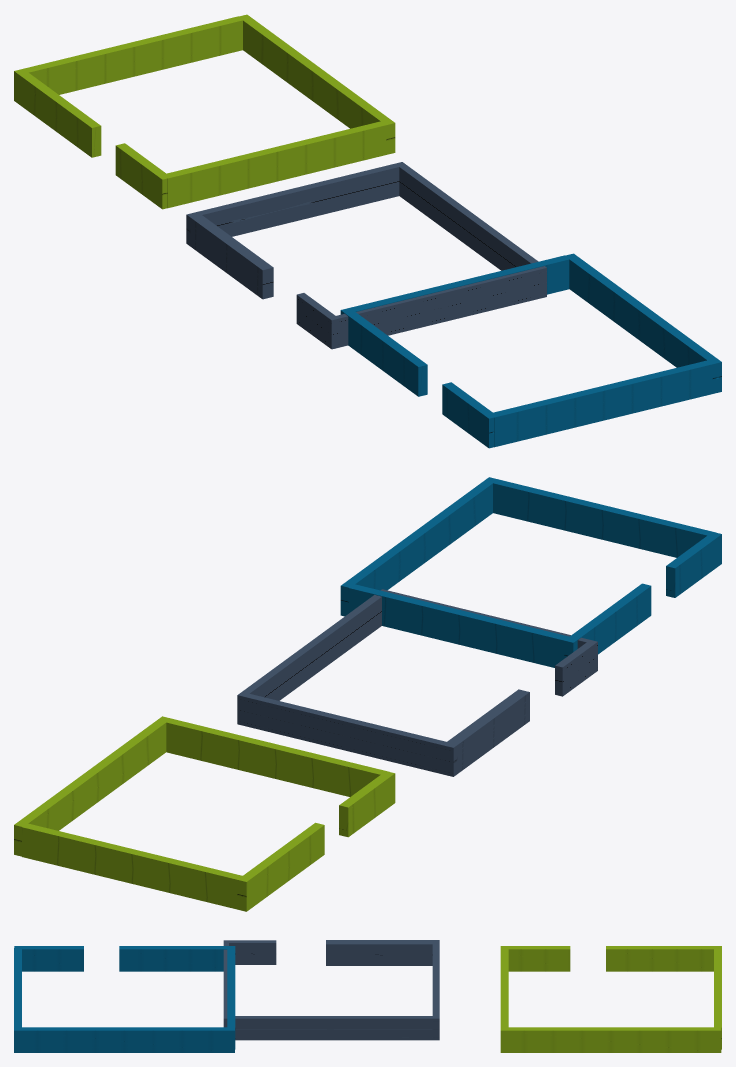
Rendered from Walls.fbx.
The picture shows the model from 3 angles, top to bottom: view 1: azimuth 30°, elevation 25°; view 2: azimuth 150°, elevation 25°; view 3: azimuth 270°, elevation 25°; orthographic projection. The views are drawn at different scales.
Visible parts, largest first — view 1: Wall4.001, Wall2, Wall3; view 2: Wall4.001, Wall3, Wall2; view 3: Wall4.001, Wall3, Wall2.
Part boxes in pixels (box(x1,y1,x2,y2)): Wall4.001: box(14, 14, 395, 209); Wall2: box(186, 162, 546, 349); Wall3: box(340, 253, 721, 448); Wall4.001: box(14, 716, 395, 911); Wall3: box(340, 477, 721, 667); Wall2: box(237, 589, 597, 776); Wall4.001: box(500, 946, 721, 1052); Wall3: box(14, 946, 235, 1052); Wall2: box(223, 940, 439, 1040).
Size of the model in its own units: 10.17 by 1.16 by 33.48.
